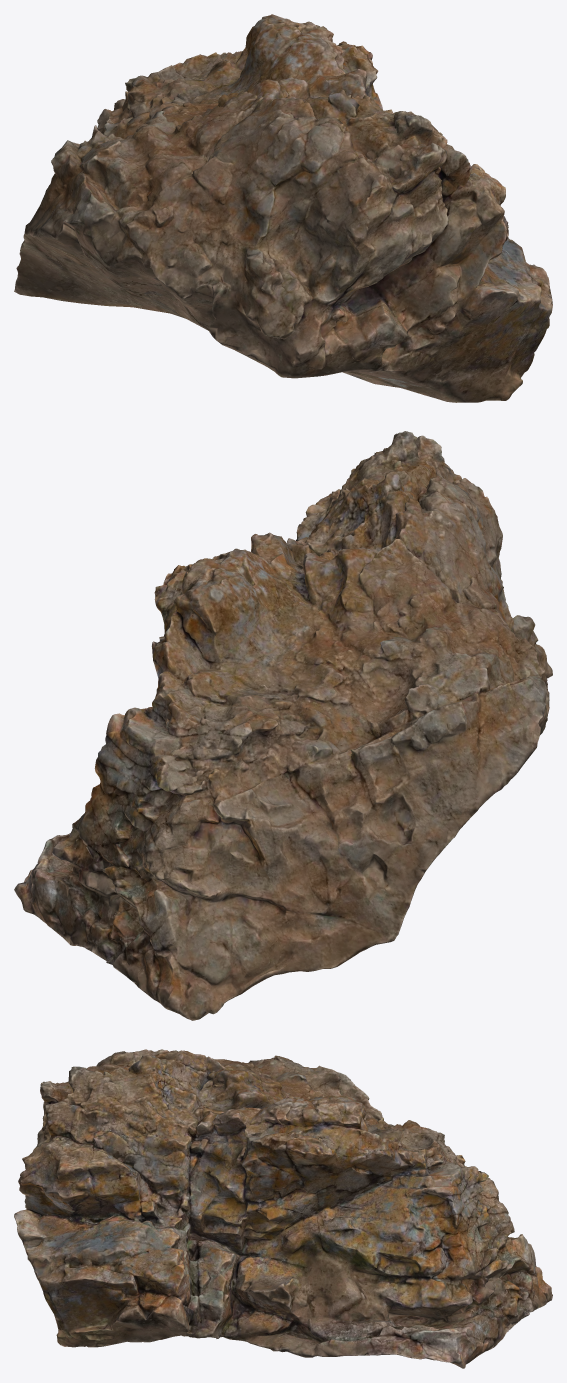
The model's file is boulder_01.glb.
The picture shows the model from 3 angles, top to bottom: view 1: azimuth 30°, elevation 25°; view 2: azimuth 150°, elevation 25°; view 3: azimuth 270°, elevation 25°; orthographic projection. The views are drawn at different scales.
Parts seen in each view (by area): view 1: boulder_01; view 2: boulder_01; view 3: boulder_01.
Part boxes in pixels (x1=…): boulder_01: x1=14, y1=14, x2=552, y2=402; boulder_01: x1=14, y1=431, x2=552, y2=1020; boulder_01: x1=14, y1=1049, x2=552, y2=1368.
Size of the model in its own units: 1.27 by 1 by 1.83.
1 material, 1 textured.
